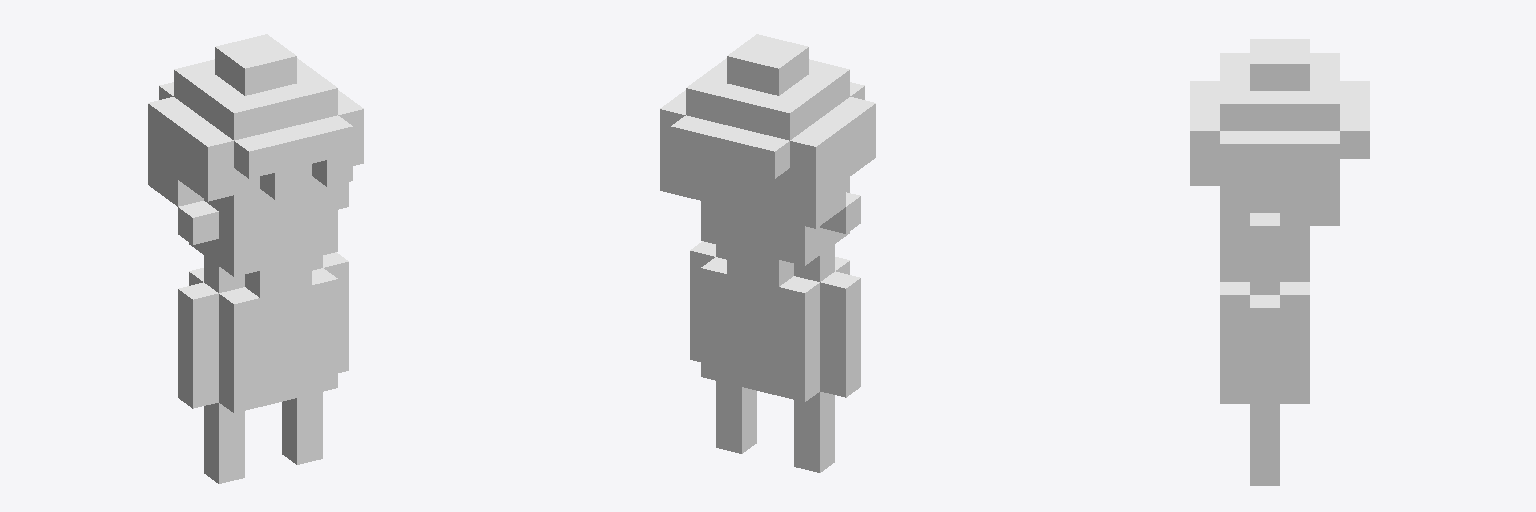
File: spec2.obj
3 renders of one model, left to right at view 1: azimuth 30°, elevation 25°; view 2: azimuth 150°, elevation 25°; view 3: azimuth 270°, elevation 25°, orthographic.
Parts seen in each view (by area): view 1: object 1; view 2: object 1; view 3: object 1.
Boxes of the visible parts, <box> form: object 1: <box>148,34,363,483</box>; object 1: <box>660,34,875,472</box>; object 1: <box>1190,39,1369,485</box>.
Size of the model in its own units: 0.6 by 1.5 by 0.6.